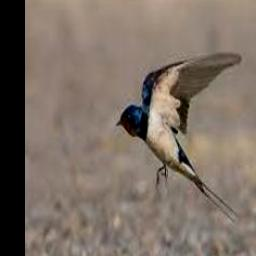Swallow: (116, 51, 242, 221)
